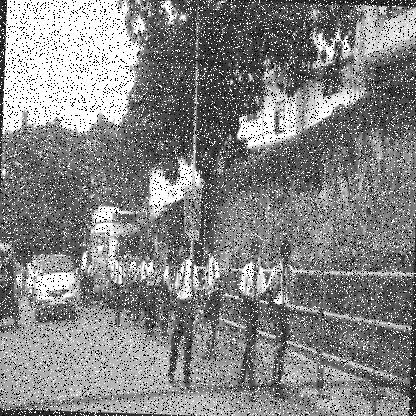Car: (31, 254, 78, 322), (13, 265, 24, 297)
